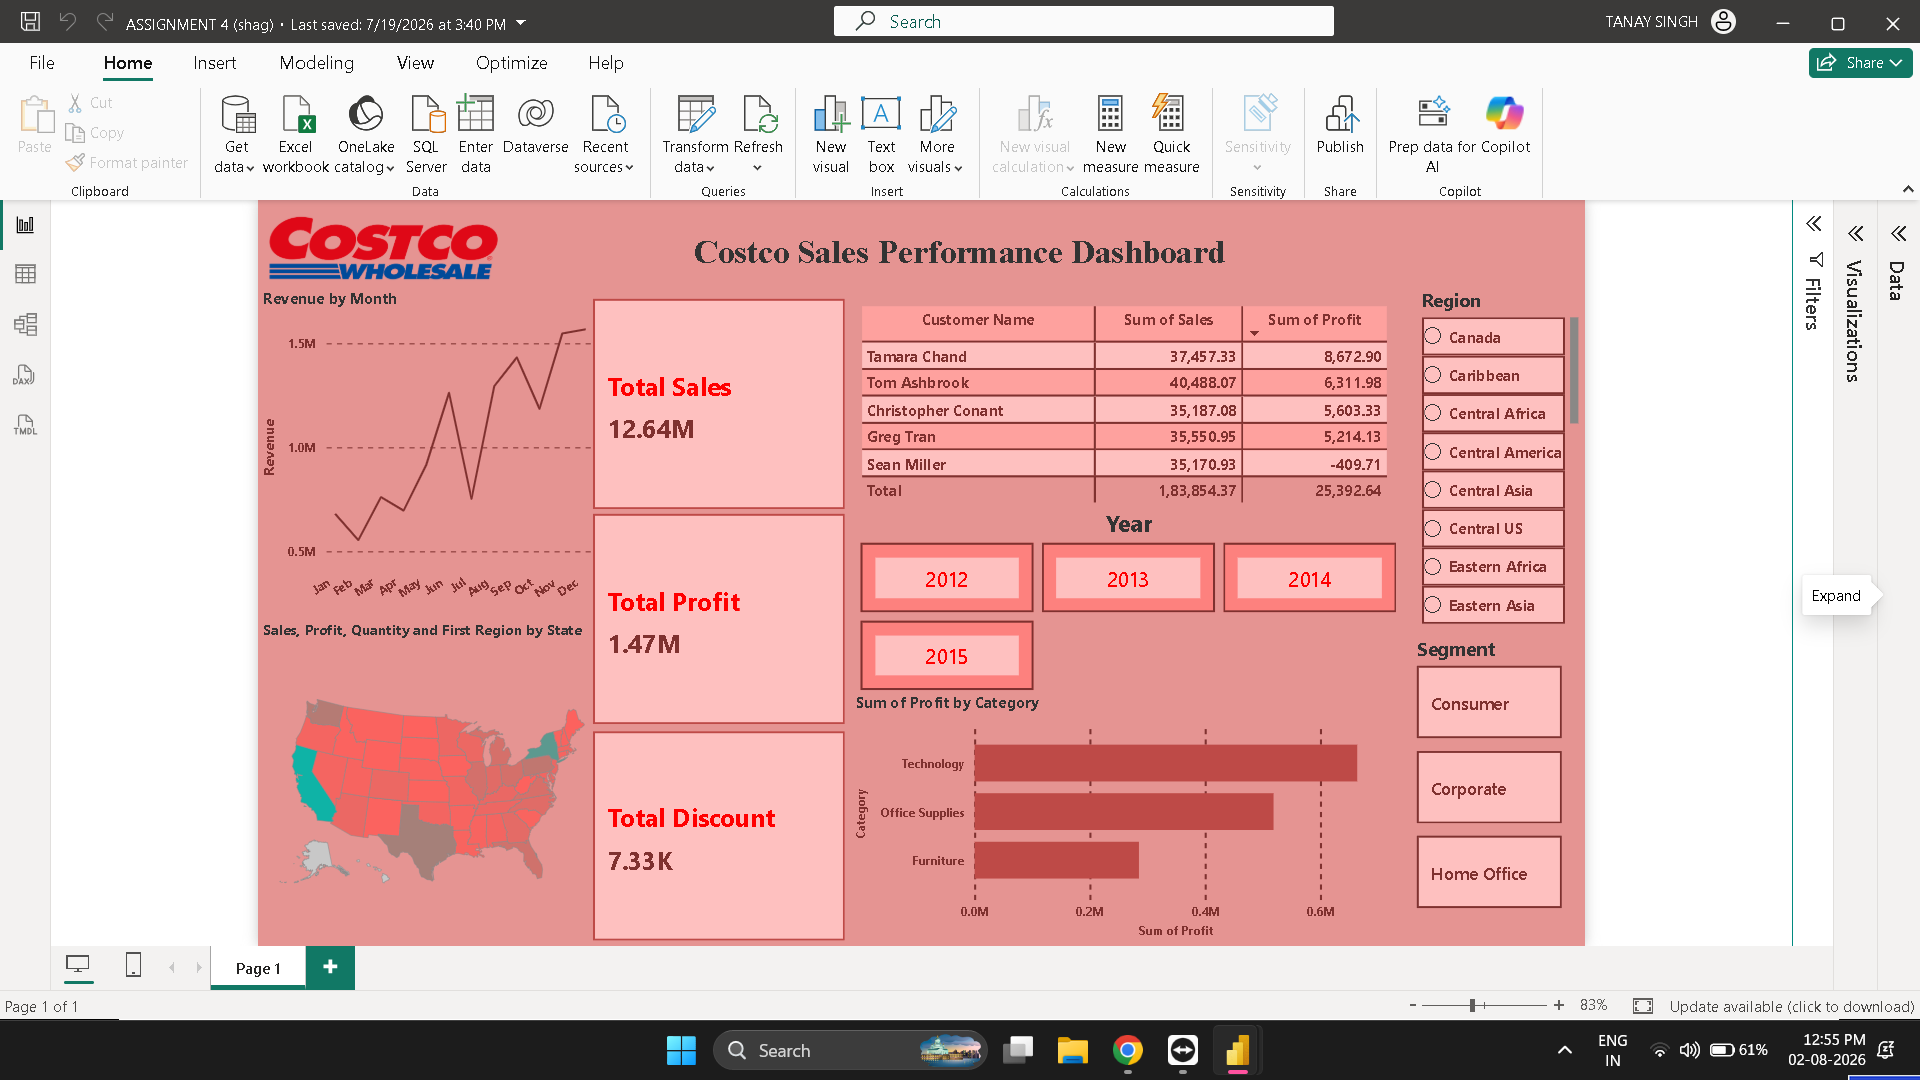

What the dashboard file says about the page in this screenshot:
{"tool":"powerbi","page":{"name":"Page 1","canvas":[1280,720],"ordinal":0},"visuals":[{"type":"cardVisual","fields":{"Data":["DateTable.Total Sales"]},"box":[318.5,90.5,253.4,213.5],"z":0},{"type":"cardVisual","fields":{"Data":["DateTable.Total Profit"]},"box":[318.5,298,253.4,213.5],"z":1000},{"type":"cardVisual","fields":{"Data":["DateTable.Total Discount"]},"box":[318.5,507.9,253.4,212.3],"z":2000},{"type":"shapeMap","title":"Sales, Profit, Quantity and First Region by State","fields":{"Category":["Orders.State"],"Value":["Sum(Orders.Sales)"]},"box":[0,405.4,336.6,312.5],"z":3000},{"type":"clusteredBarChart","fields":{"Category":["Orders.Category"],"Y":["Sum(Orders.Profit)"]},"box":[571.9,474.1,528.4,243.7],"z":4000},{"type":"lineChart","fields":{"Category":["DateTable.Month"],"Y":["DateTable.Revenue"]},"box":[0,84.5,329.4,320.9],"z":5000},{"type":"tableEx","fields":{"Values":["Orders.Customer Name","Sum(Orders.Sales)","Sum(Orders.Profit)"]},"box":[576.7,97.7,518.8,200.3],"z":6000},{"type":"advancedSlicerVisual","fields":{"Values":["DateTable.Year"]},"box":[581.5,295.6,518.8,178.6],"z":7000},{"type":"advancedSlicerVisual","fields":{"Values":["Orders.Segment"]},"box":[1118.9,419.4,161.4,300.8],"z":8000},{"type":"listSlicer","fields":{"Values":["Orders.Region"]},"box":[1118.4,84.5,161.7,331.8],"z":9000},{"type":"textbox","box":[416.2,26.5,539.3,90.5],"z":10000},{"type":"image","box":[0,1.2,242.5,90.5],"z":11000}]}

Visuals, with their boxes on the page's 1280x720 design canvas (x1, y1, x2, y2). These are canvas units, not pixel positions in the 1920x1080 screenshot, which may show the page scaled, cropped or inside an application window:
cardVisual - DateTable.Total Sales: crop(318, 90, 572, 304)
cardVisual - DateTable.Total Profit: crop(318, 298, 572, 512)
cardVisual - DateTable.Total Discount: crop(318, 508, 572, 720)
"Sales, Profit, Quantity and First Region by State" shapeMap: crop(0, 405, 337, 718)
clusteredBarChart - Orders.Category x Sum(Orders.Profit): crop(572, 474, 1100, 718)
lineChart - DateTable.Month x DateTable.Revenue: crop(0, 84, 329, 405)
tableEx - Orders.Customer Name x Sum(Orders.Sales): crop(577, 98, 1096, 298)
advancedSlicerVisual - DateTable.Year: crop(582, 296, 1100, 474)
advancedSlicerVisual - Orders.Segment: crop(1119, 419, 1280, 720)
listSlicer - Orders.Region: crop(1118, 84, 1280, 416)
textbox: crop(416, 26, 956, 117)
image: crop(0, 1, 242, 92)
